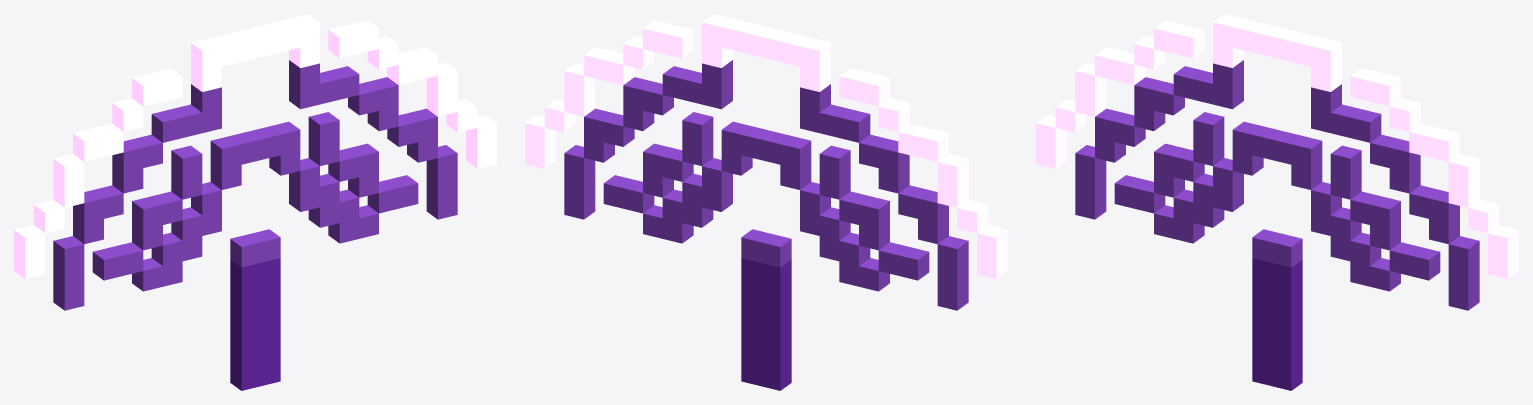
The model's file is sea_fan.glb.
3 views of the same model, side by side, from view 1: azimuth 30°, elevation 25°; view 2: azimuth 150°, elevation 25°; view 3: azimuth 330°, elevation 25° (orthographic).
Parts seen in each view (by area): view 1: fan; view 2: fan; view 3: fan.
Boxes of the visible parts, left/top/right/bottom form: fan: left=14, top=14, right=496, bottom=390; fan: left=525, top=14, right=1007, bottom=390; fan: left=1036, top=14, right=1518, bottom=390.
Size of the model in its own units: 1.5 by 1.06 by 0.0625.
Materials: 1 (1 with a texture image).
